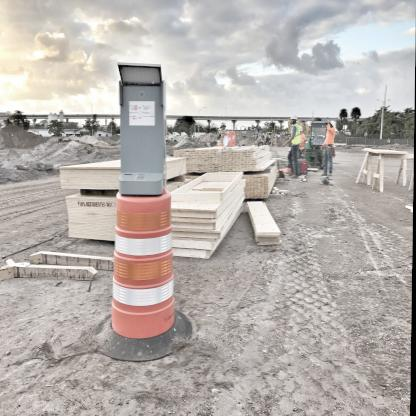obstacle: (109, 190, 182, 340)
